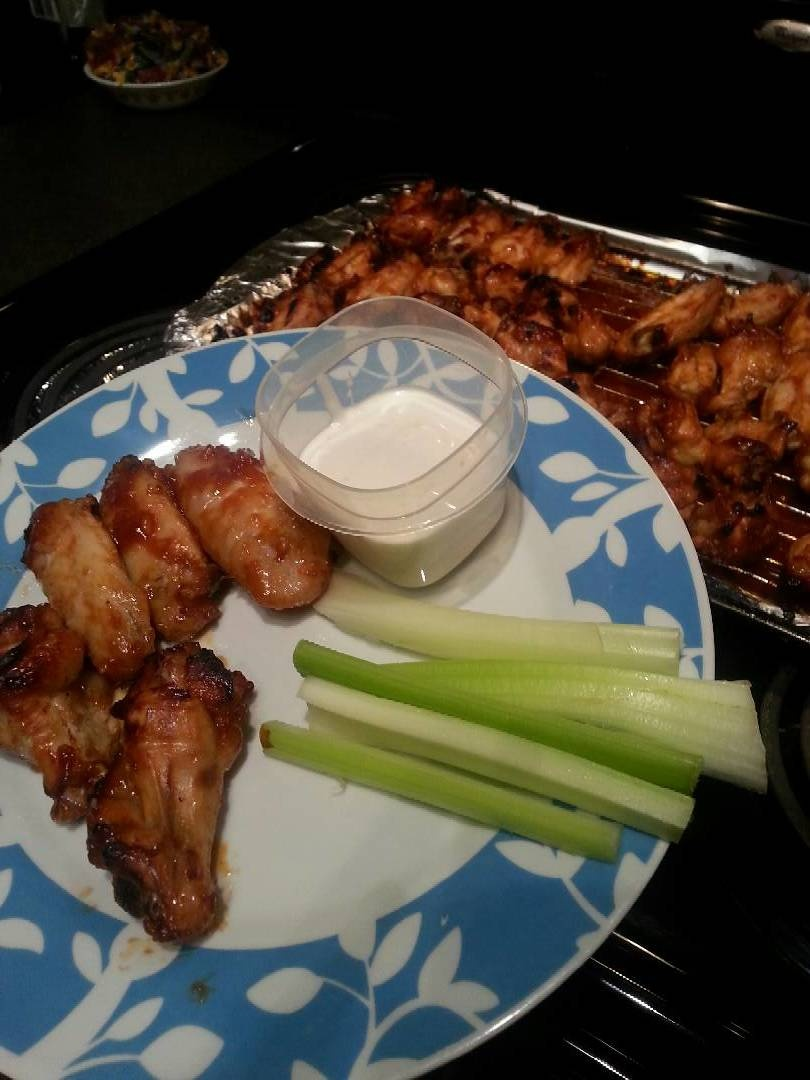background: (319, 300, 810, 953)
